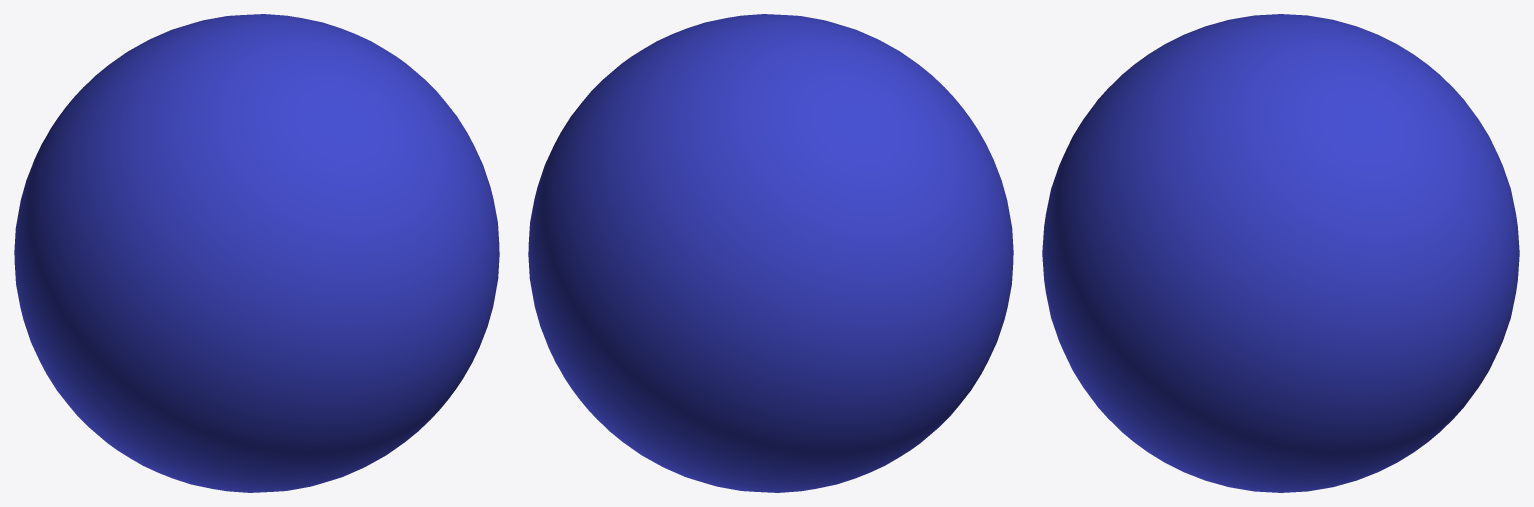
Rendered from bigger.fbx.
3 views of the same model, side by side, from view 1: azimuth 30°, elevation 25°; view 2: azimuth 150°, elevation 25°; view 3: azimuth 270°, elevation 25° (orthographic).
Visible parts, largest first — view 1: root; view 2: root; view 3: root.
Boxes of the visible parts, x1,y1,x2,y2 form: root: [14, 14, 499, 492]; root: [528, 14, 1013, 492]; root: [1042, 14, 1519, 492].
Bounding box in the file's own units: 0.9886 × 0.9704 × 0.9704.
